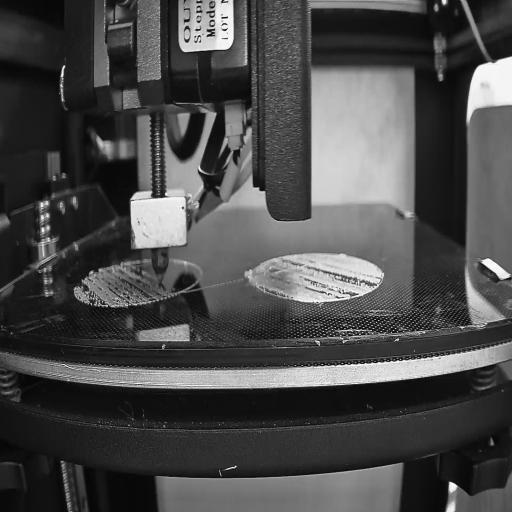under_extrusion: (256, 259, 382, 301), (76, 263, 169, 303)
